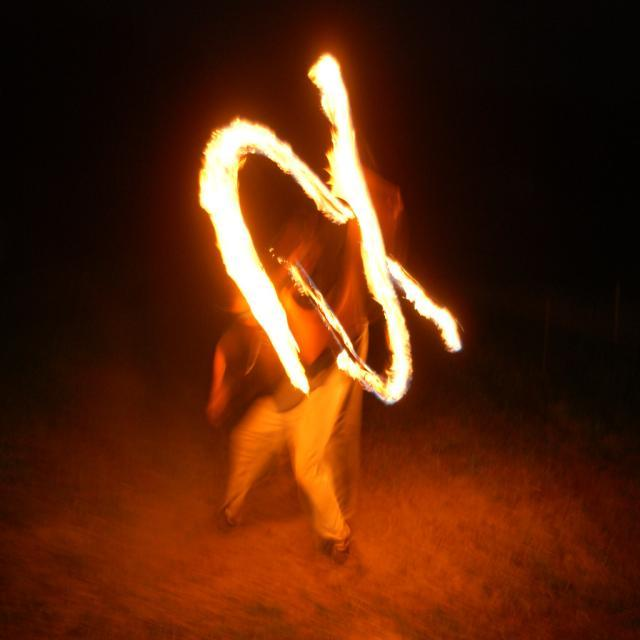Fire: (204, 117, 244, 229), (370, 250, 410, 320), (340, 140, 362, 245), (392, 332, 412, 400)
